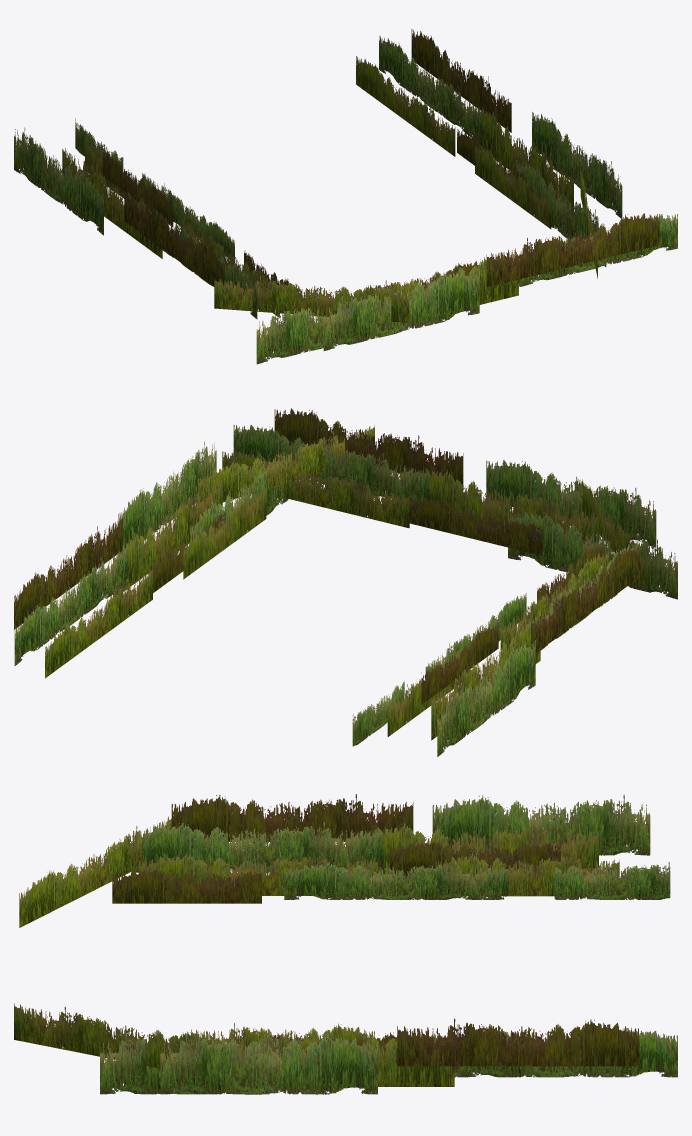
Rendered from reeds.FBX.
3 views of the same model, one above another, from view 1: azimuth 30°, elevation 25°; view 2: azimuth 150°, elevation 25°; view 3: azimuth 270°, elevation 25° (orthographic). The views are drawn at different scales.
Visible parts, largest first — view 1: reeds; view 2: reeds; view 3: reeds.
Boxes of the visible parts, bbox=[...] form: reeds: bbox=[14, 29, 677, 364]; reeds: bbox=[14, 408, 677, 756]; reeds: bbox=[14, 794, 677, 1094].
Size of the model in its own units: 1155 by 237 by 1293.
